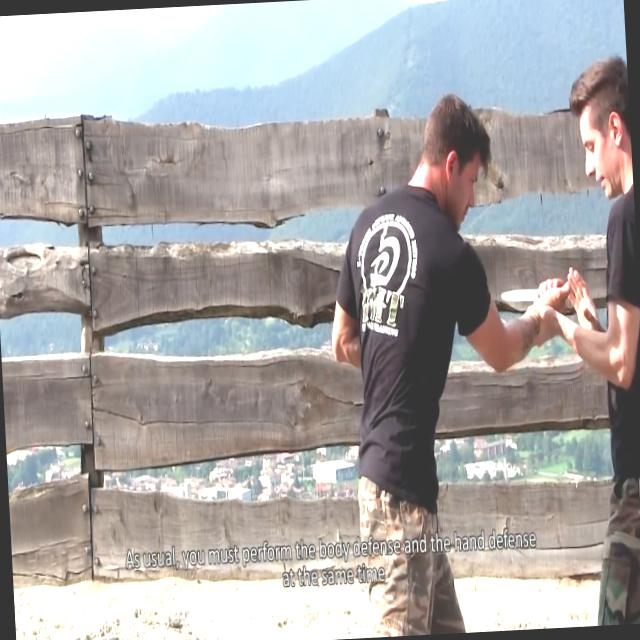knife: (496, 270, 570, 308)
